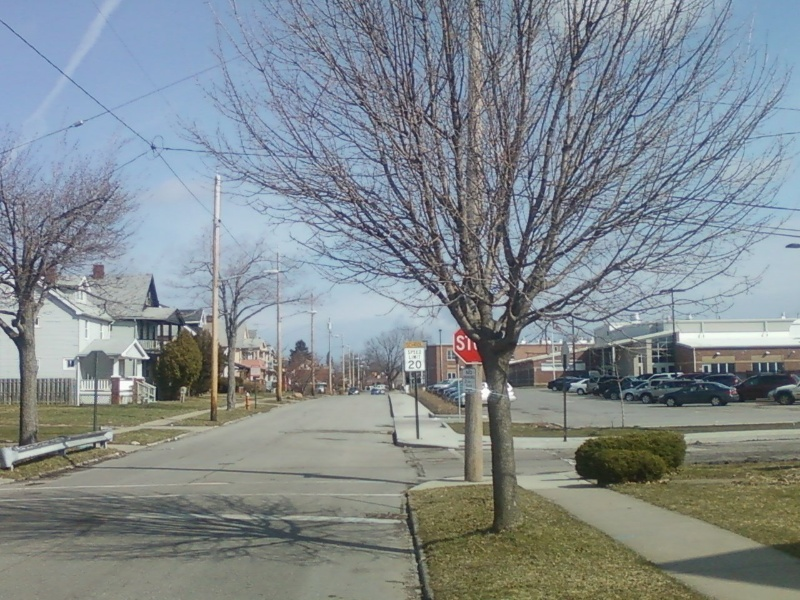stop sign: (450, 322, 495, 367)
